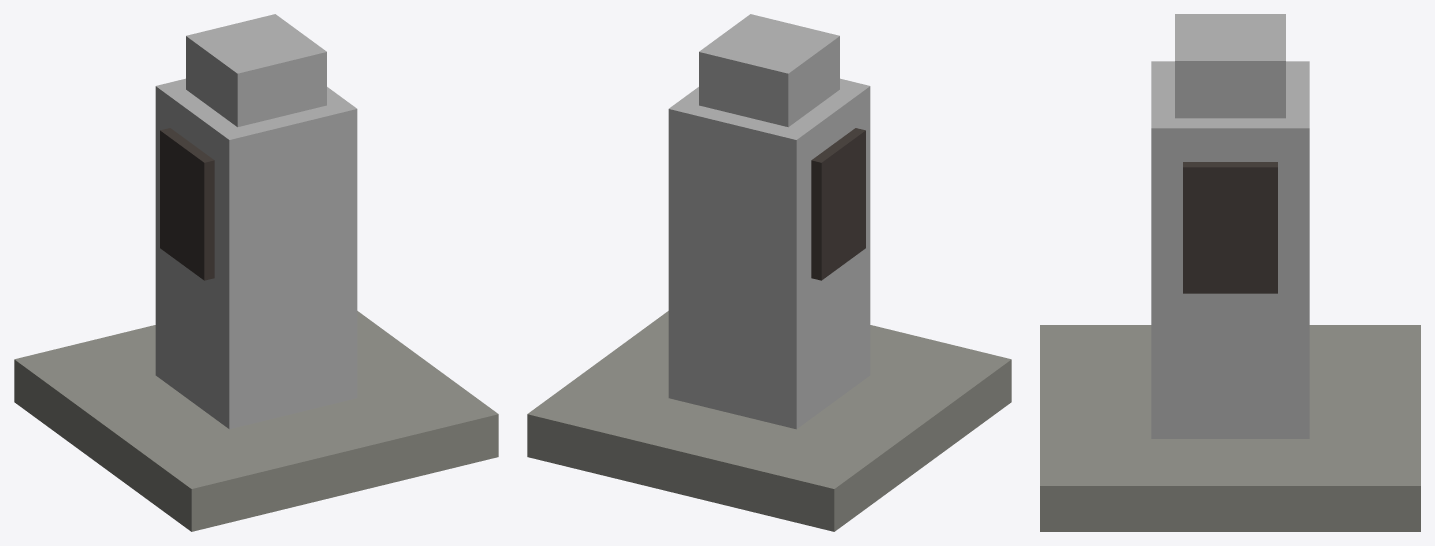
The model's file is SM_poste_km_v3_LOD0.fbx.
The picture shows the model from 3 angles, left to right: view 1: azimuth 30°, elevation 25°; view 2: azimuth 150°, elevation 25°; view 3: azimuth 270°, elevation 25°; orthographic projection. The views are drawn at different scales.
Parts seen in each view (by area): view 1: SM_bloques.poste_km_v3_LOD0; view 2: SM_bloques.poste_km_v3_LOD0; view 3: SM_bloques.poste_km_v3_LOD0.
Part boxes in pixels (x1=…): SM_bloques.poste_km_v3_LOD0: x1=14, y1=14, x2=498, y2=531; SM_bloques.poste_km_v3_LOD0: x1=527, y1=14, x2=1011, y2=531; SM_bloques.poste_km_v3_LOD0: x1=1040, y1=14, x2=1420, y2=531.
Bounding box in the file's own units: 0.6 × 0.72 × 0.6.
